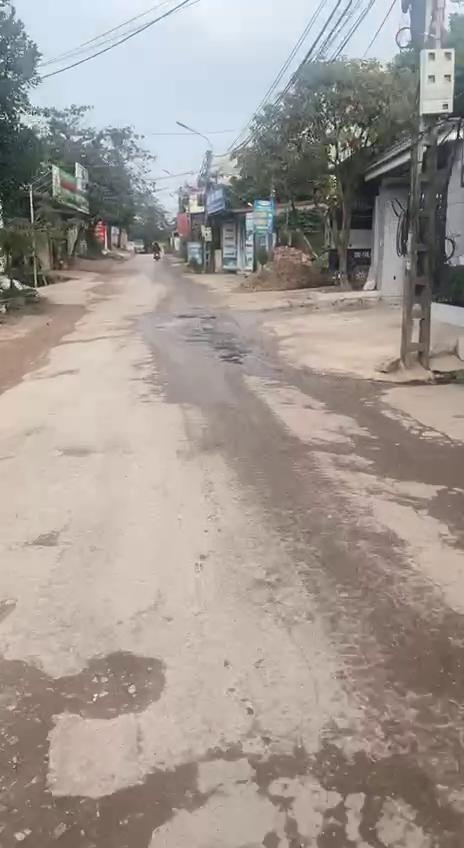pothole: (0, 643, 205, 848), (244, 733, 464, 848), (372, 600, 464, 737)
